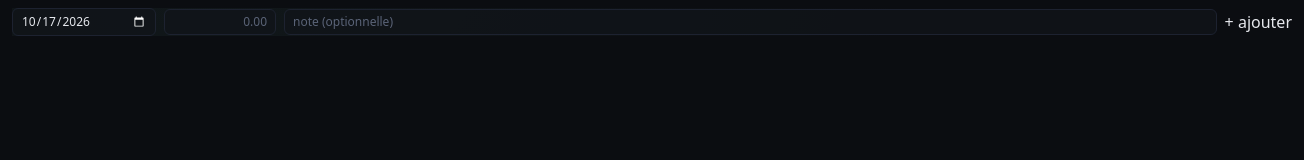
Test: BalanceCheckpointsDrawer › shows 409 error text inline
Type "2025-06-01" into the date field named "date du point de contrôle".
click(84, 22); type("2025-06-01")  # box x1=12 y1=8 x2=156 y2=36
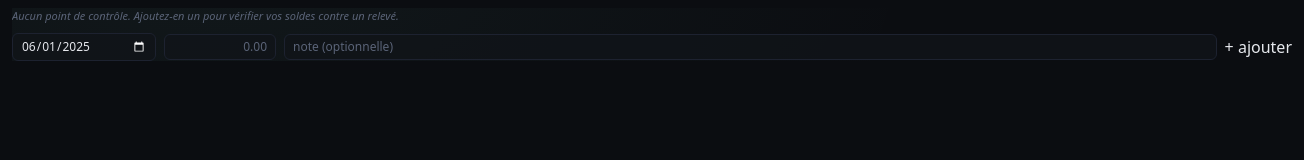
Type "100.00" into the field named "montant attendu".
click(220, 46); type("100.00")  # box x1=164 y1=34 x2=276 y2=60
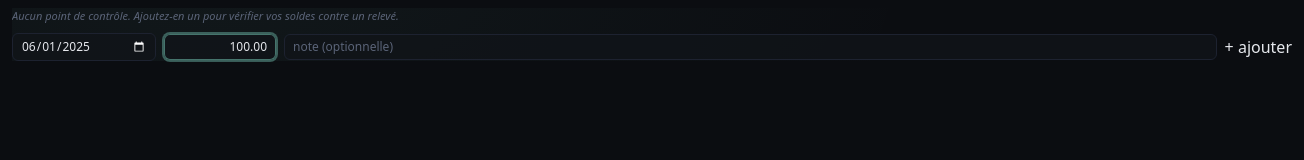
Click the button "+ ajouter".
click(1258, 46)  # box x1=1225 y1=34 x2=1292 y2=58
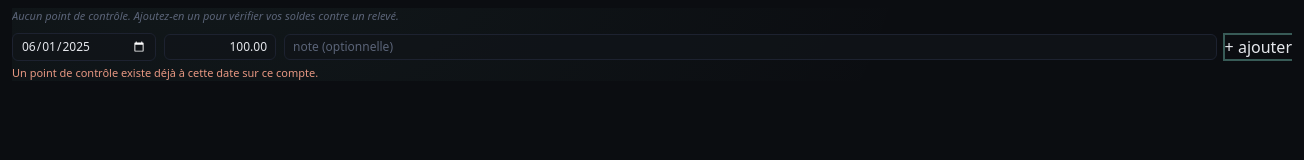
Expected: the text "Un point de contrôle existe déjà à cette date sur ce compte." is shown, x1=12 y1=64 x2=318 y2=80
